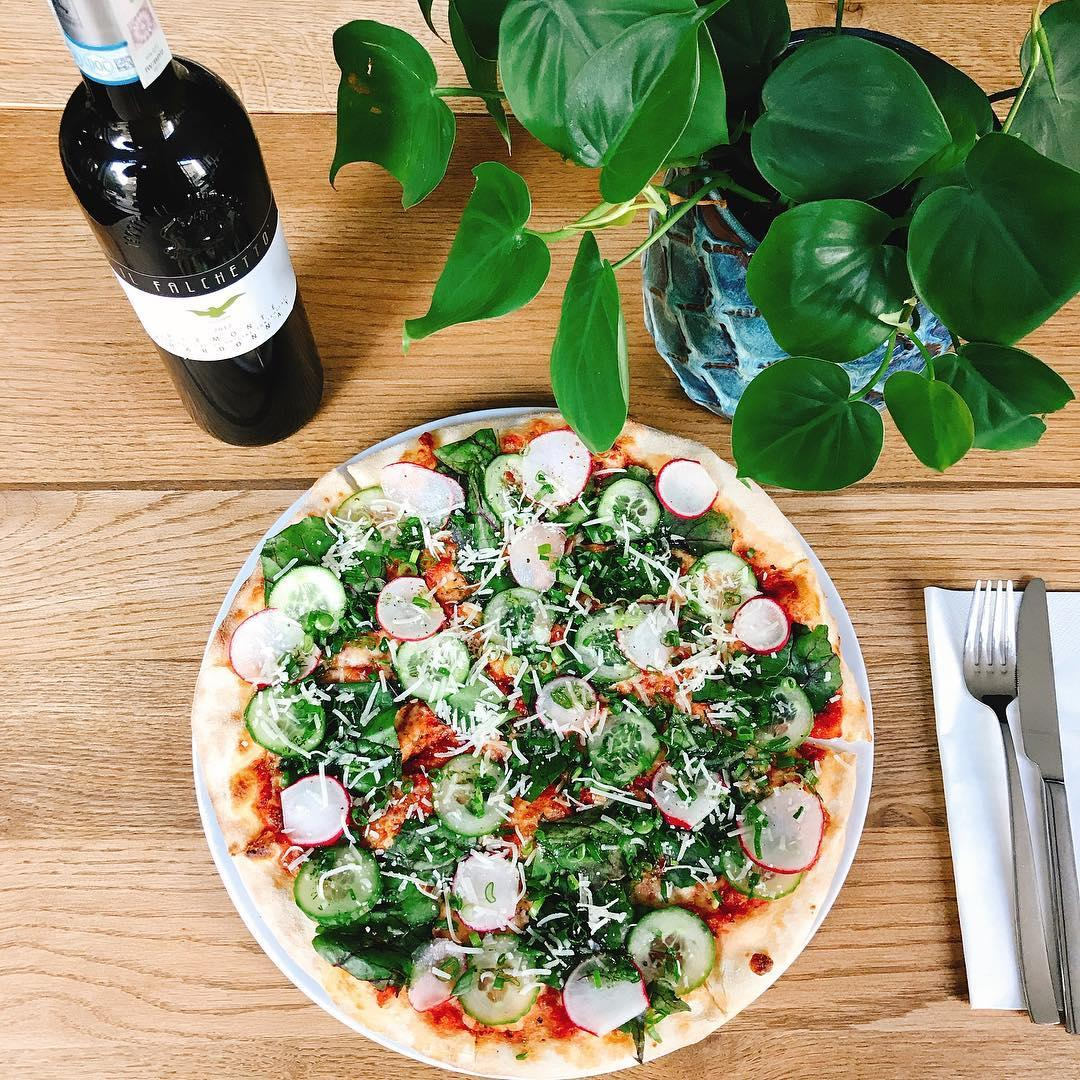Pizza: (192, 413, 870, 1080)
